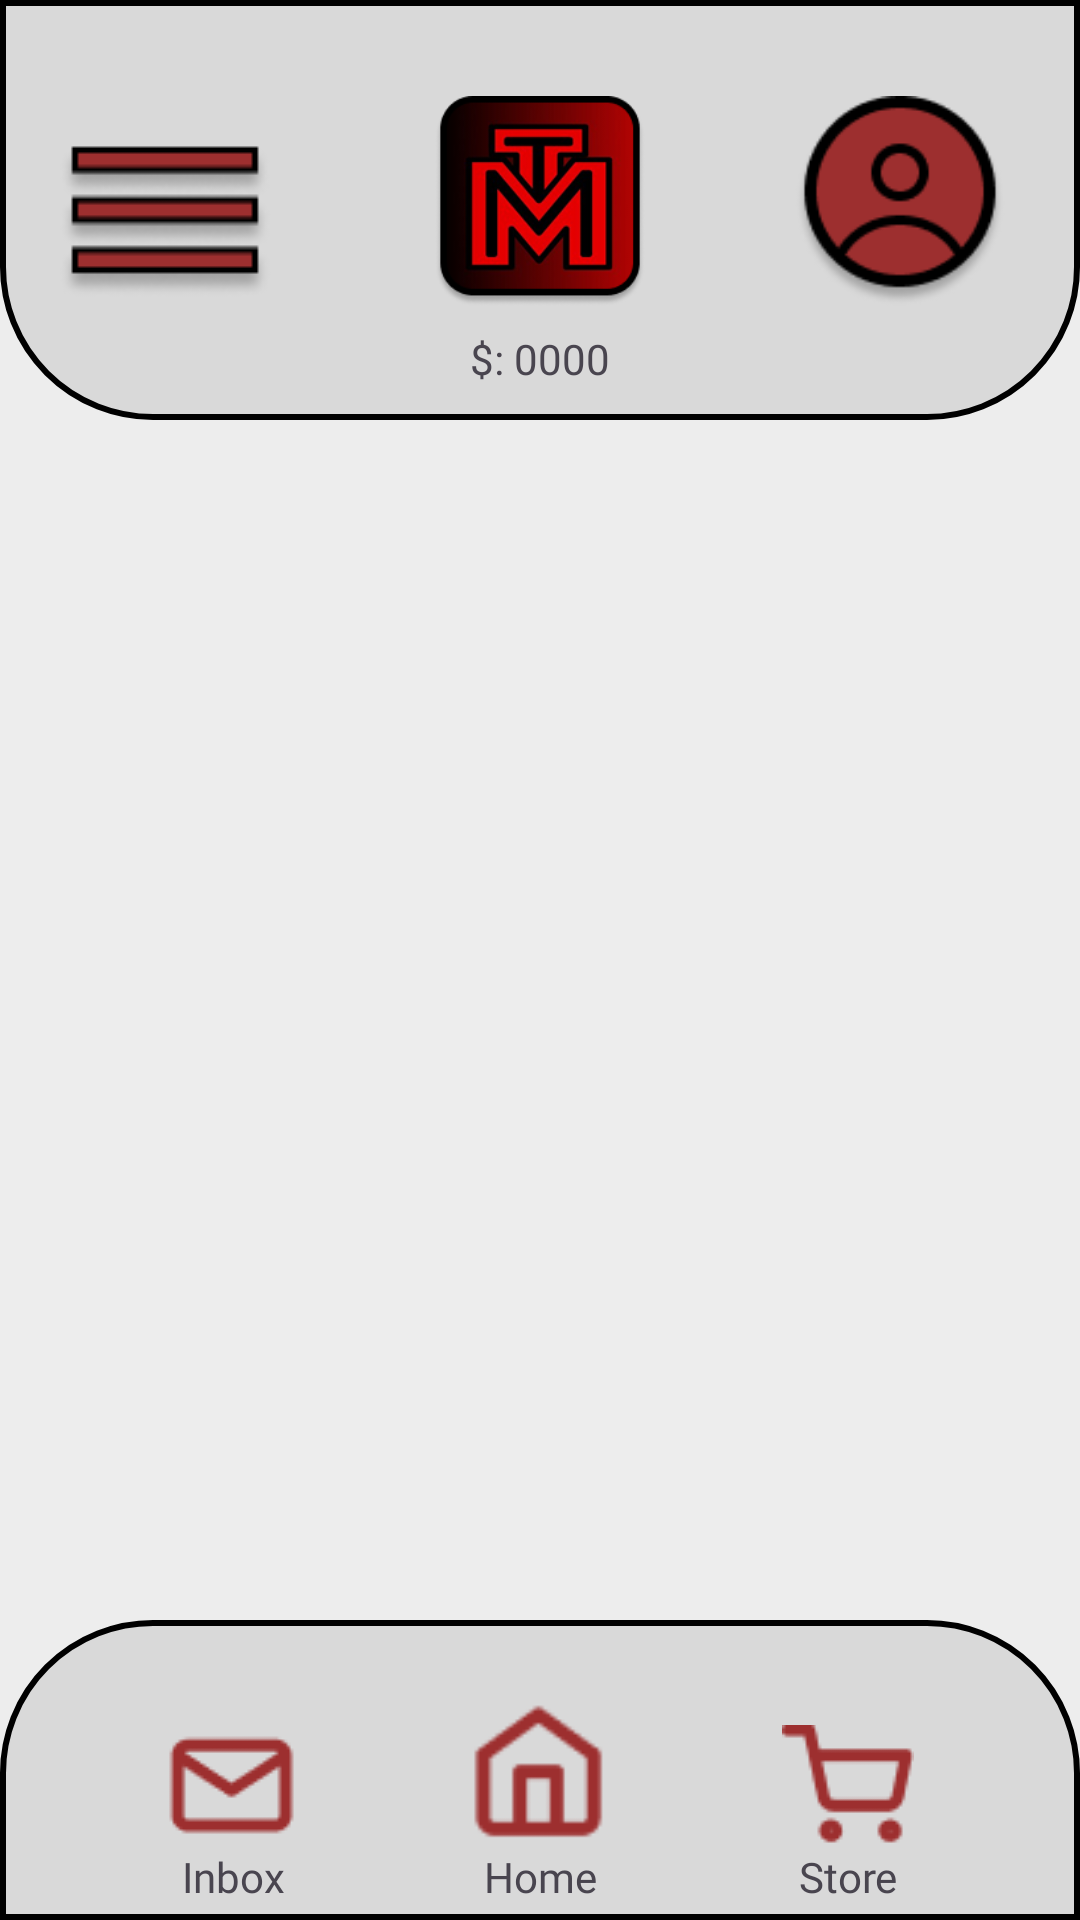

Screen size 1080x1920. Icon name, then its center in pixels as (x,y):
hamburger menu: (165,216)
shopping cart: (848,1784)
